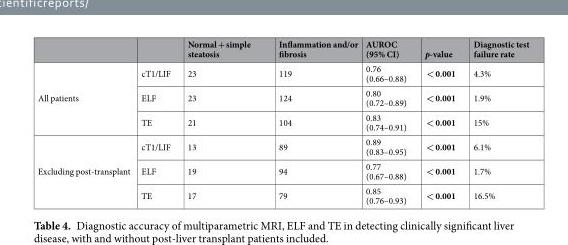table: (36, 37, 528, 206)
table column: (36, 37, 135, 206), (262, 37, 361, 206), (178, 37, 262, 206), (463, 37, 528, 206), (361, 37, 415, 206), (415, 37, 463, 206), (135, 37, 178, 206)
table column header: (36, 37, 528, 60)
table row: (36, 60, 528, 85), (36, 109, 528, 134), (36, 85, 528, 109), (36, 134, 528, 158), (36, 158, 528, 182), (36, 182, 528, 206), (36, 37, 528, 60)
table spanning cell: (36, 60, 135, 134), (36, 134, 135, 206)
